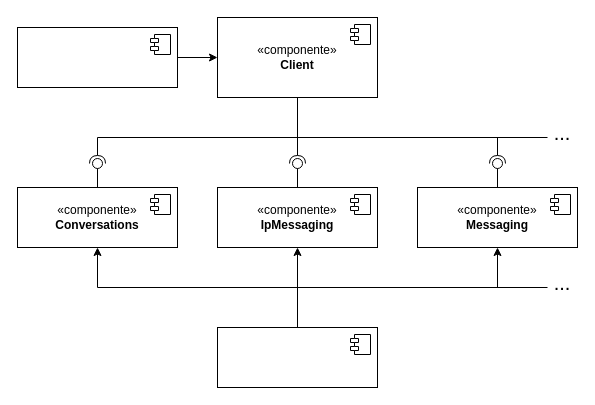
Some shapes in this 595 by 405 pixel diagram are drawn without their labels. The shapes that lost their labels are listed below. From the top down, each one's centre as x and y in pixels, then its label:
At [97,57]: "«componente» ClientBase".
At [297,357]: "«componente» Domain".
